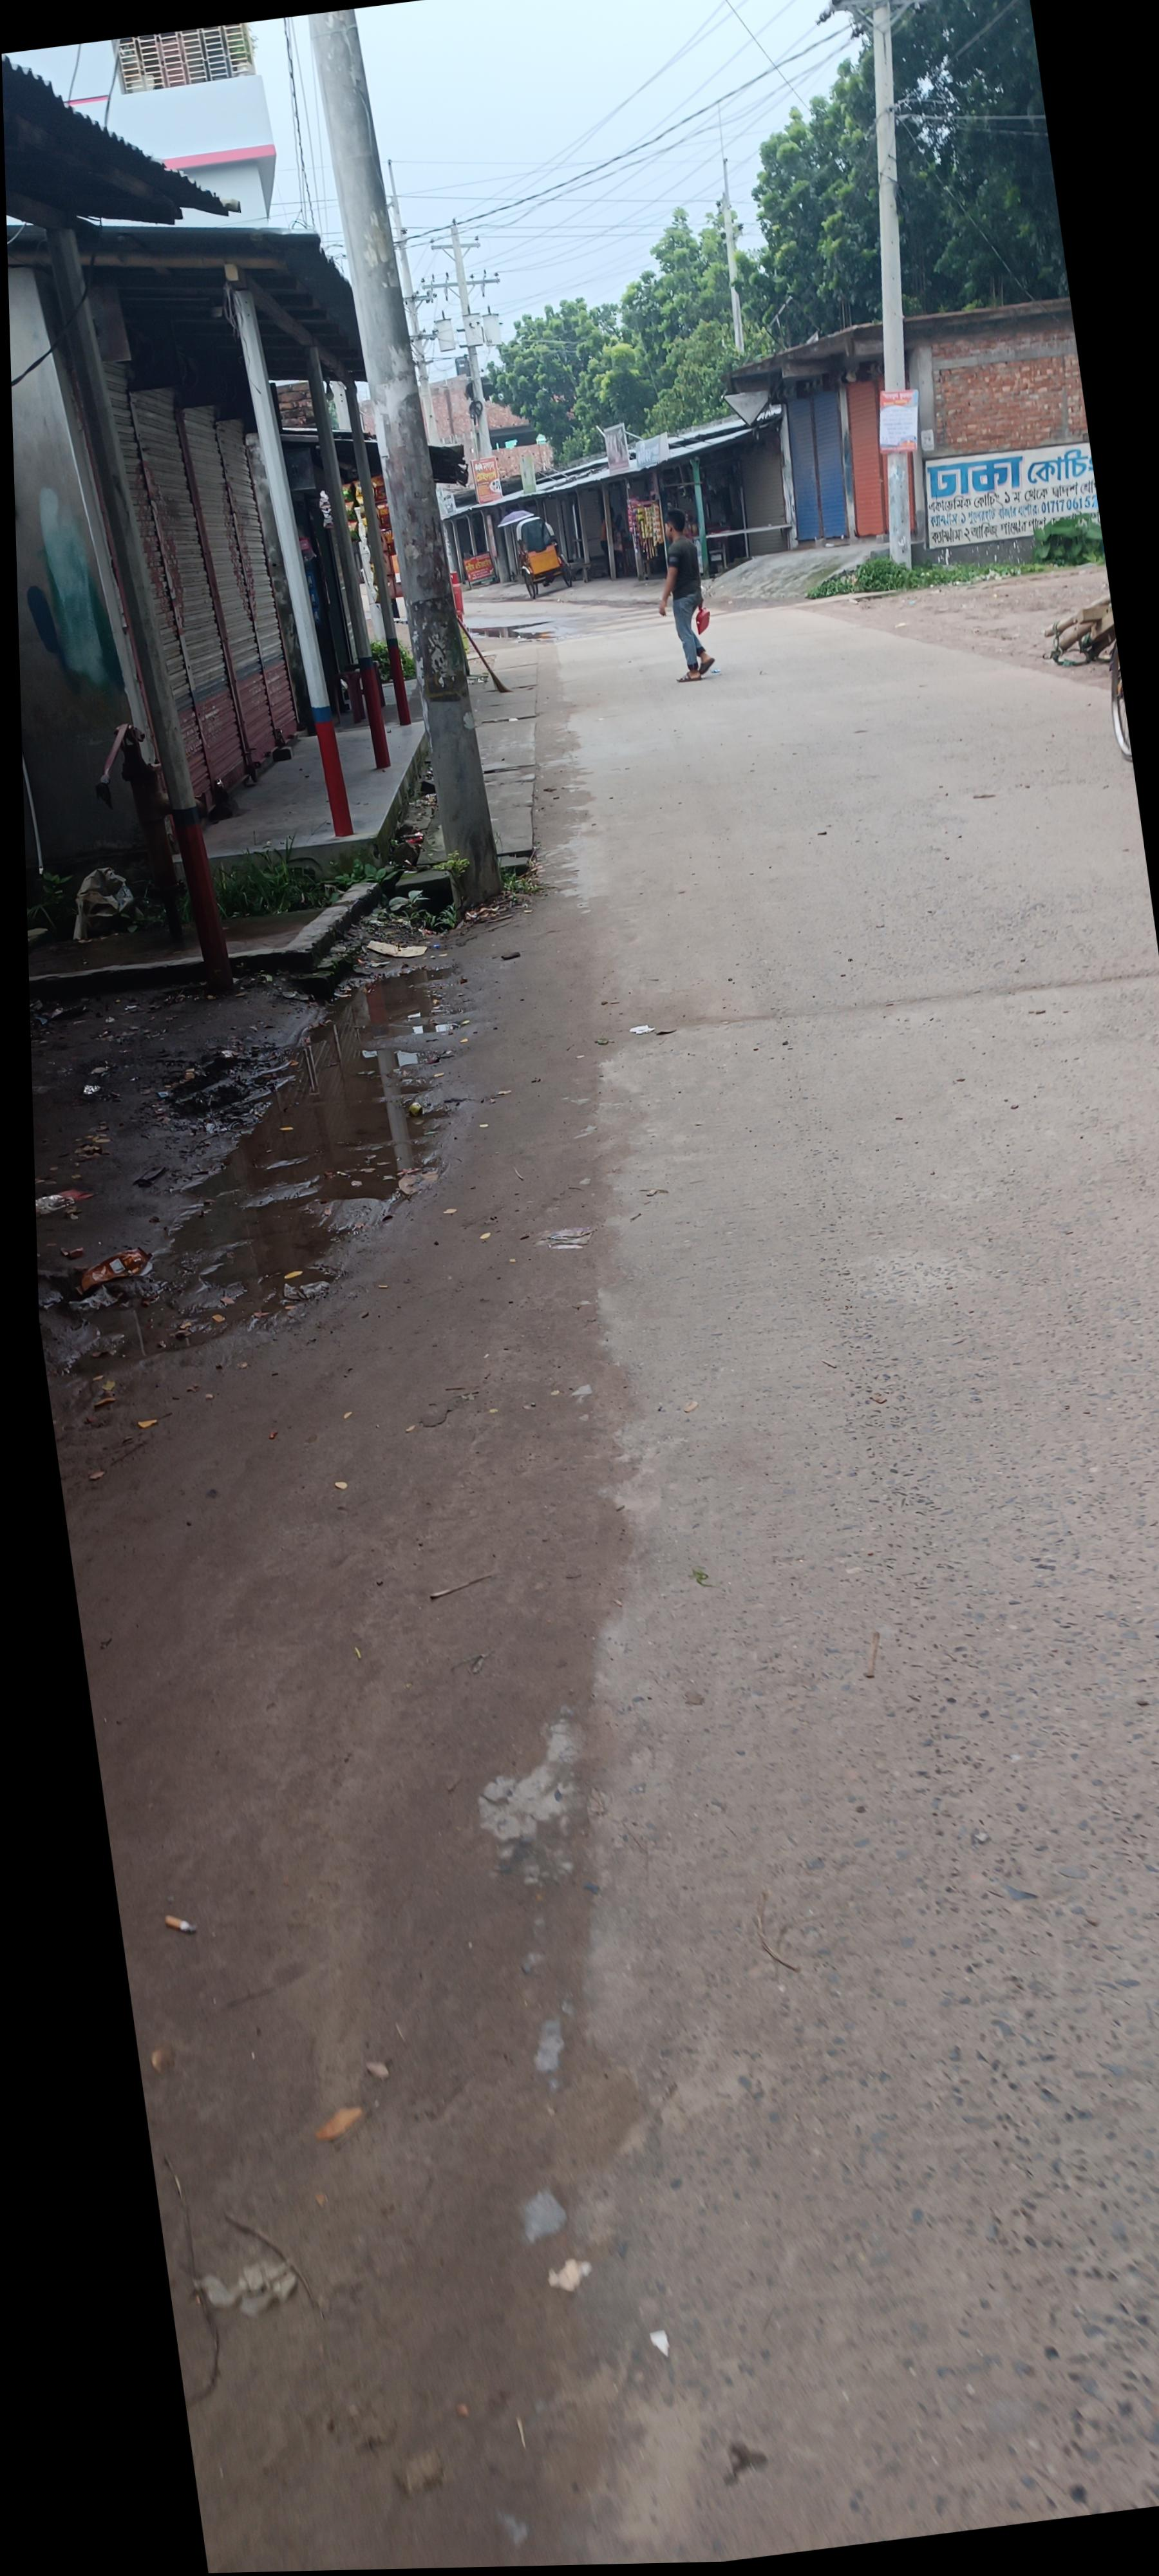Garbage-bin: (519, 577, 589, 754)
Light-pole: (161, 99, 422, 1014), (694, 80, 847, 687)
Potted-plant: (23, 1007, 379, 1449)
